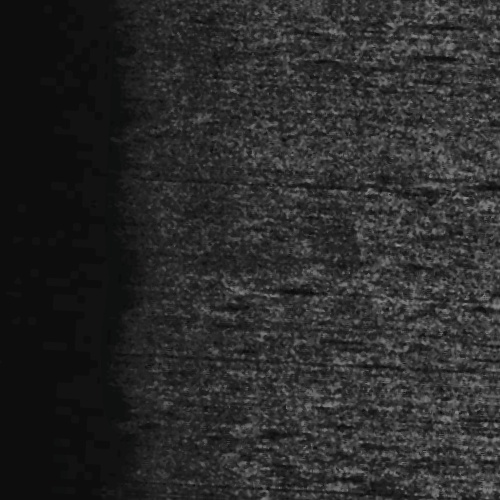object: (416, 171, 447, 174)
shadow: (432, 171, 500, 174)
